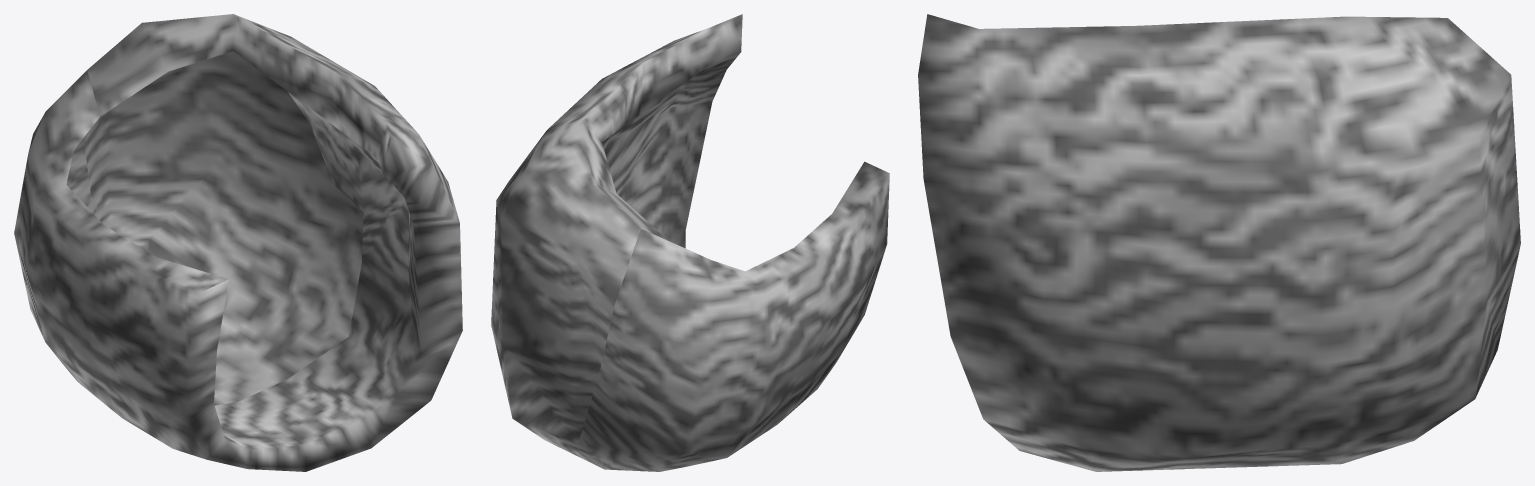
File: Wig_Bob_Hair_Braided01.fbx
The picture shows the model from 3 angles, left to right: view 1: azimuth 30°, elevation 25°; view 2: azimuth 150°, elevation 25°; view 3: azimuth 270°, elevation 25°; orthographic projection. The views are drawn at different scales.
Parts seen in each view (by area): view 1: BoxOfJars003; view 2: BoxOfJars003; view 3: BoxOfJars003.
Boxes of the visible parts, box(x1,y1,x2,y2) form: BoxOfJars003: box(14, 14, 462, 471); BoxOfJars003: box(491, 14, 889, 471); BoxOfJars003: box(918, 14, 1520, 471).
Bounding box in the file's own units: 11.06 × 12.02 × 14.42.
